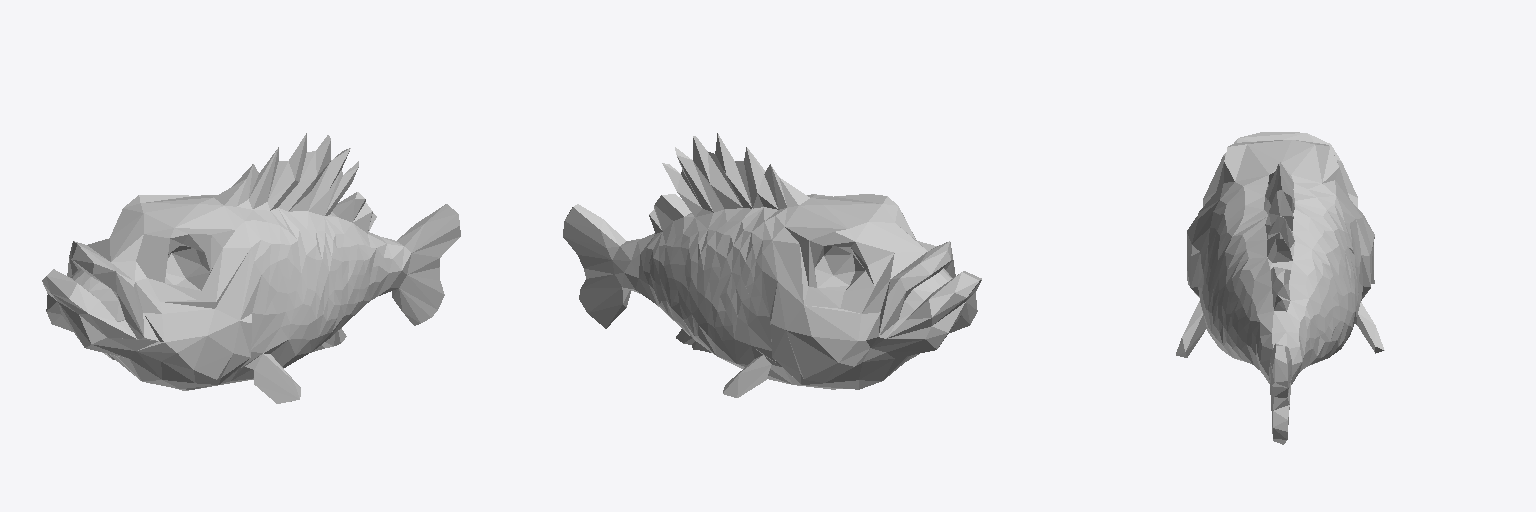
File: fish.obj
The picture shows the model from 3 angles: view 1: azimuth 30°, elevation 25°; view 2: azimuth 150°, elevation 25°; view 3: azimuth 270°, elevation 25°; orthographic projection.
Visible parts, largest first — view 1: Fish; view 2: Fish; view 3: Fish.
Part boxes in pixels (x1,y1,x2,y2): Fish: (42, 133, 460, 403); Fish: (563, 133, 981, 397); Fish: (1176, 132, 1384, 444).
Bounding box in the file's own units: 0.8902 × 0.4663 × 0.3994.